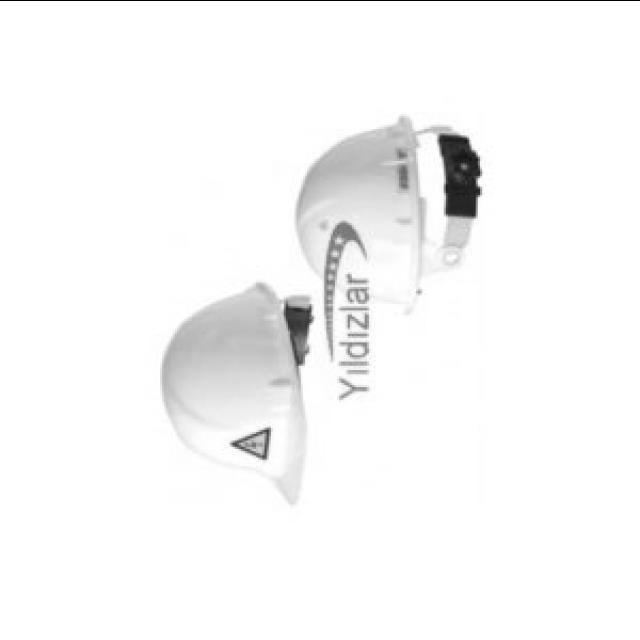construction helmet: (299, 113, 480, 307), (162, 279, 311, 510)
